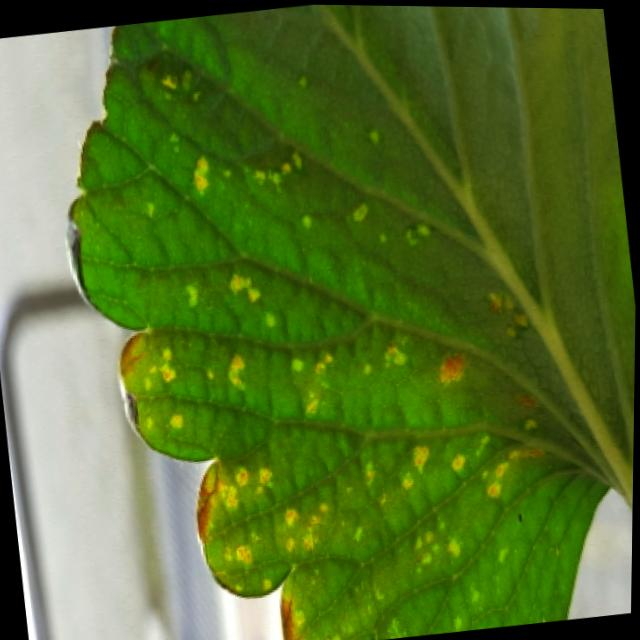Angular Leafspot: (65, 16, 589, 640)
